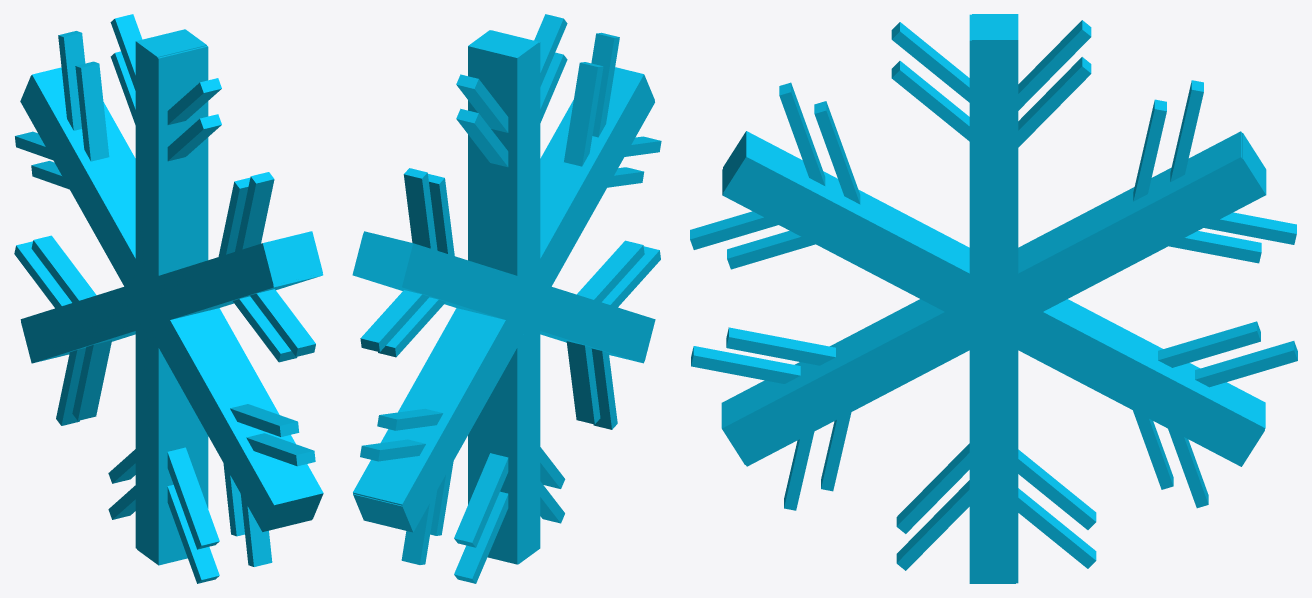
The model's file is snow.fbx.
3 renders of one model, left to right at view 1: azimuth 30°, elevation 25°; view 2: azimuth 150°, elevation 25°; view 3: azimuth 270°, elevation 25°, orthographic. The views are drawn at different scales.
Parts seen in each view (by area): view 1: Cube; view 2: Cube; view 3: Cube.
Part boxes in pixels (x1,y1,x2,y2): Cube: [14, 14, 323, 583]; Cube: [352, 14, 661, 583]; Cube: [690, 14, 1297, 583].
Bounding box in the file's own units: 19.05 × 186 × 189.
